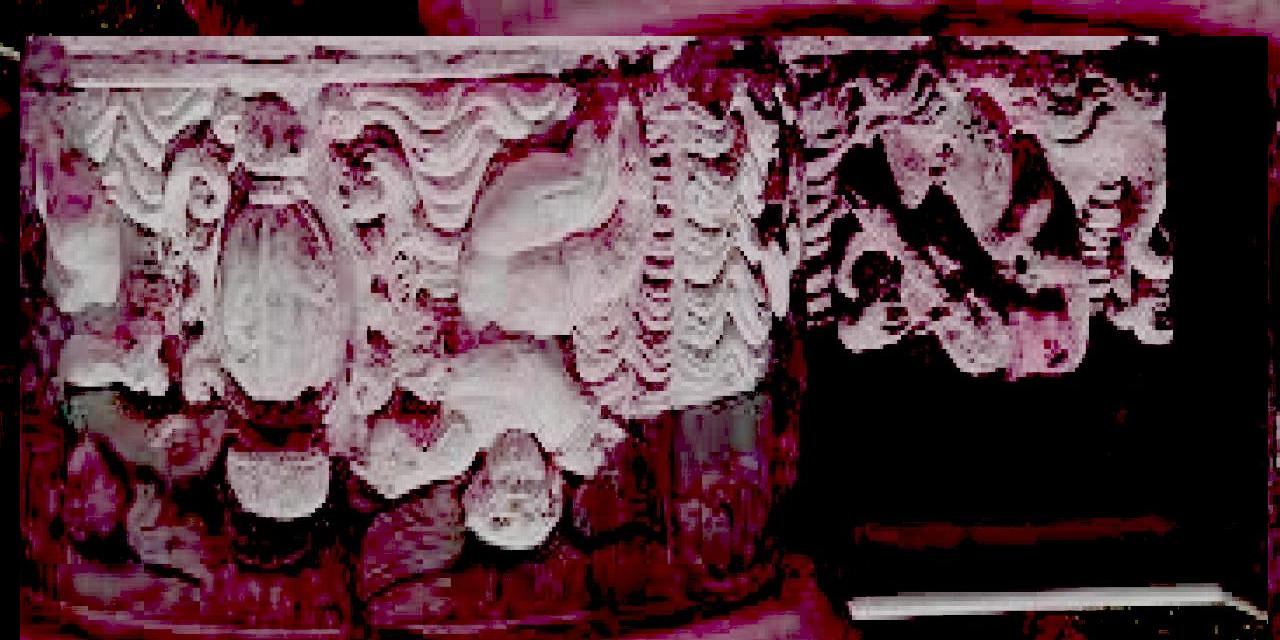Liontaria: (21, 37, 1269, 640)
